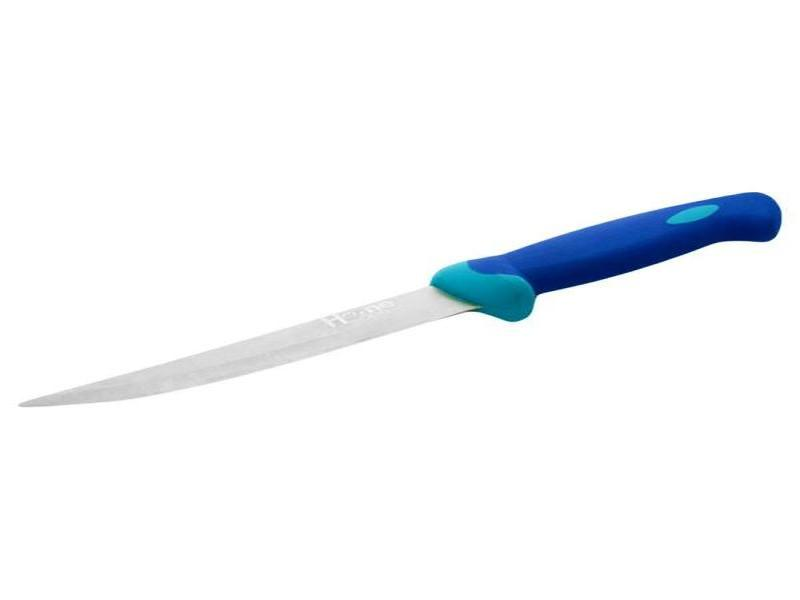KNIFE: (10, 187, 785, 414)
